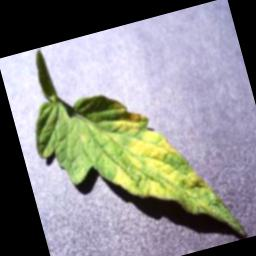Leaf_Mold: (82, 70, 247, 256)
